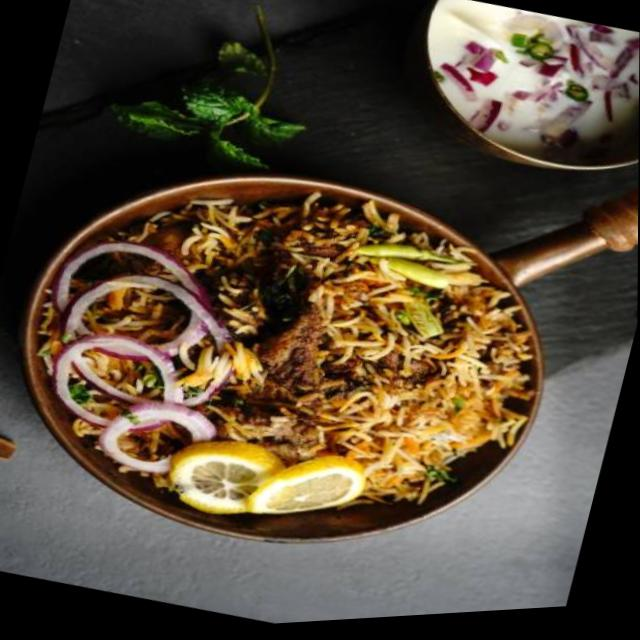BIRIYANI: (47, 197, 523, 510)
